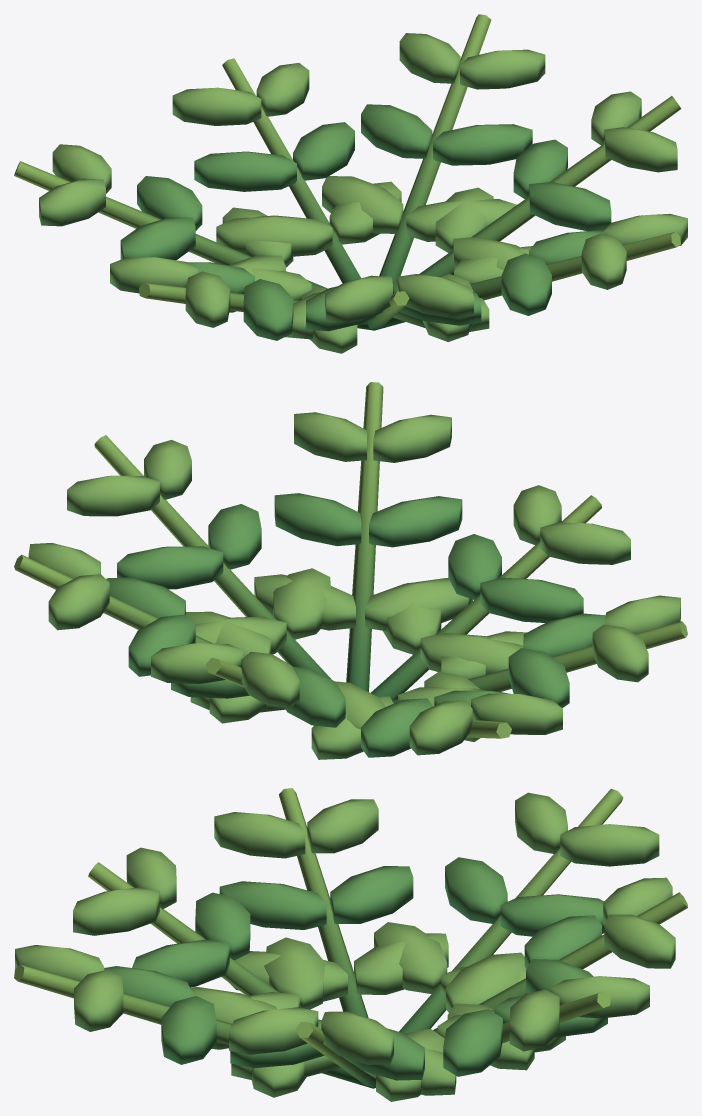
Rendered from Origin_Fern_Rosette.glb.
The picture shows the model from 3 angles, top to bottom: view 1: azimuth 30°, elevation 25°; view 2: azimuth 150°, elevation 25°; view 3: azimuth 270°, elevation 25°; orthographic projection. The views are drawn at different scales.
Visible parts, largest first — view 1: Origin_Fern_Rosette; view 2: Origin_Fern_Rosette; view 3: Origin_Fern_Rosette.
Part boxes in pixels (<box>): Origin_Fern_Rosette: <box>14,14,687,353</box>; Origin_Fern_Rosette: <box>14,382,687,759</box>; Origin_Fern_Rosette: <box>14,788,687,1101</box>.
Size of the model in its own units: 0.6721 by 0.221 by 0.646.
